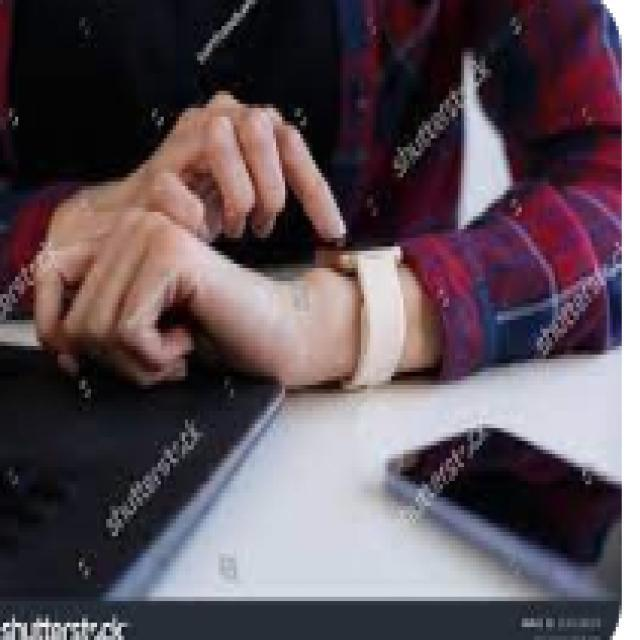Watch: (316, 225, 408, 386)
